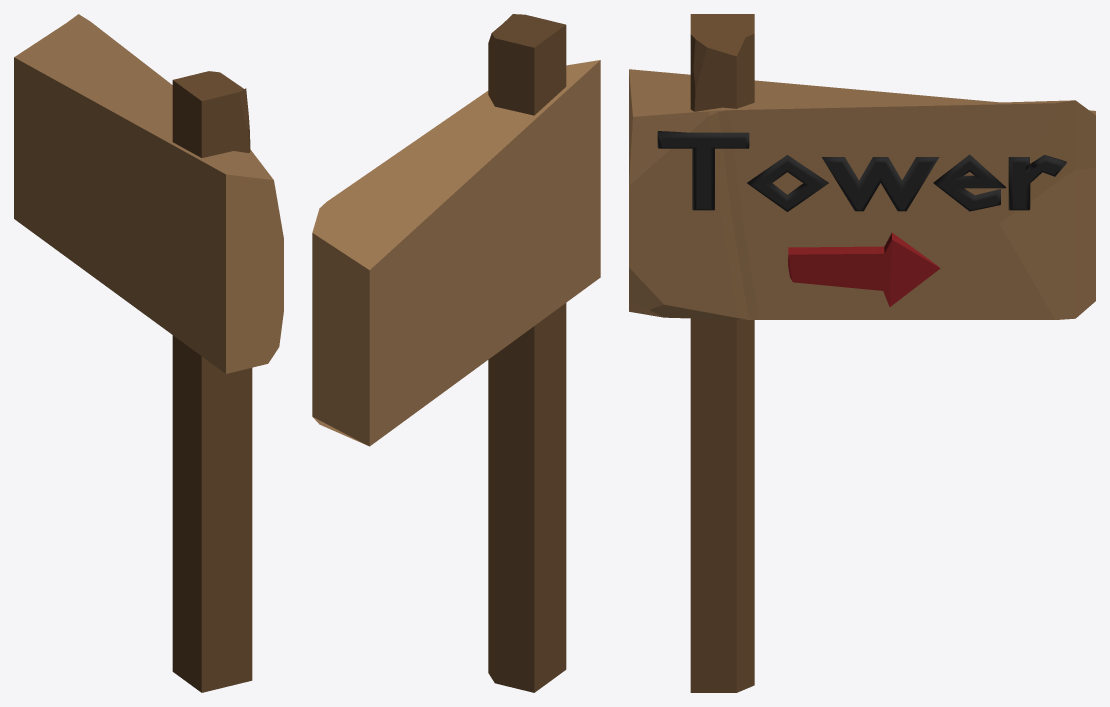
The model's file is TowerSign.fbx.
3 views of the same model, side by side, from view 1: azimuth 30°, elevation 25°; view 2: azimuth 150°, elevation 25°; view 3: azimuth 270°, elevation 25° (orthographic). The views are drawn at different scales.
Visible parts, largest first — view 1: Cube.001, Cube; view 2: Cube.001, Cube; view 3: Cube.001, Cube, Object, Cube.002.
Part boxes in pixels (box(x1,y1,x2,y2)): Cube.001: box(14, 14, 283, 373); Cube: box(172, 71, 252, 692); Cube.001: box(312, 60, 600, 446); Cube: box(488, 14, 566, 692); Cube.001: box(629, 69, 1095, 319); Cube: box(690, 14, 754, 692); Object: box(657, 131, 1066, 211); Cube.002: box(788, 232, 940, 306).
Size of the model in its own units: 37.92 by 301 by 195.
